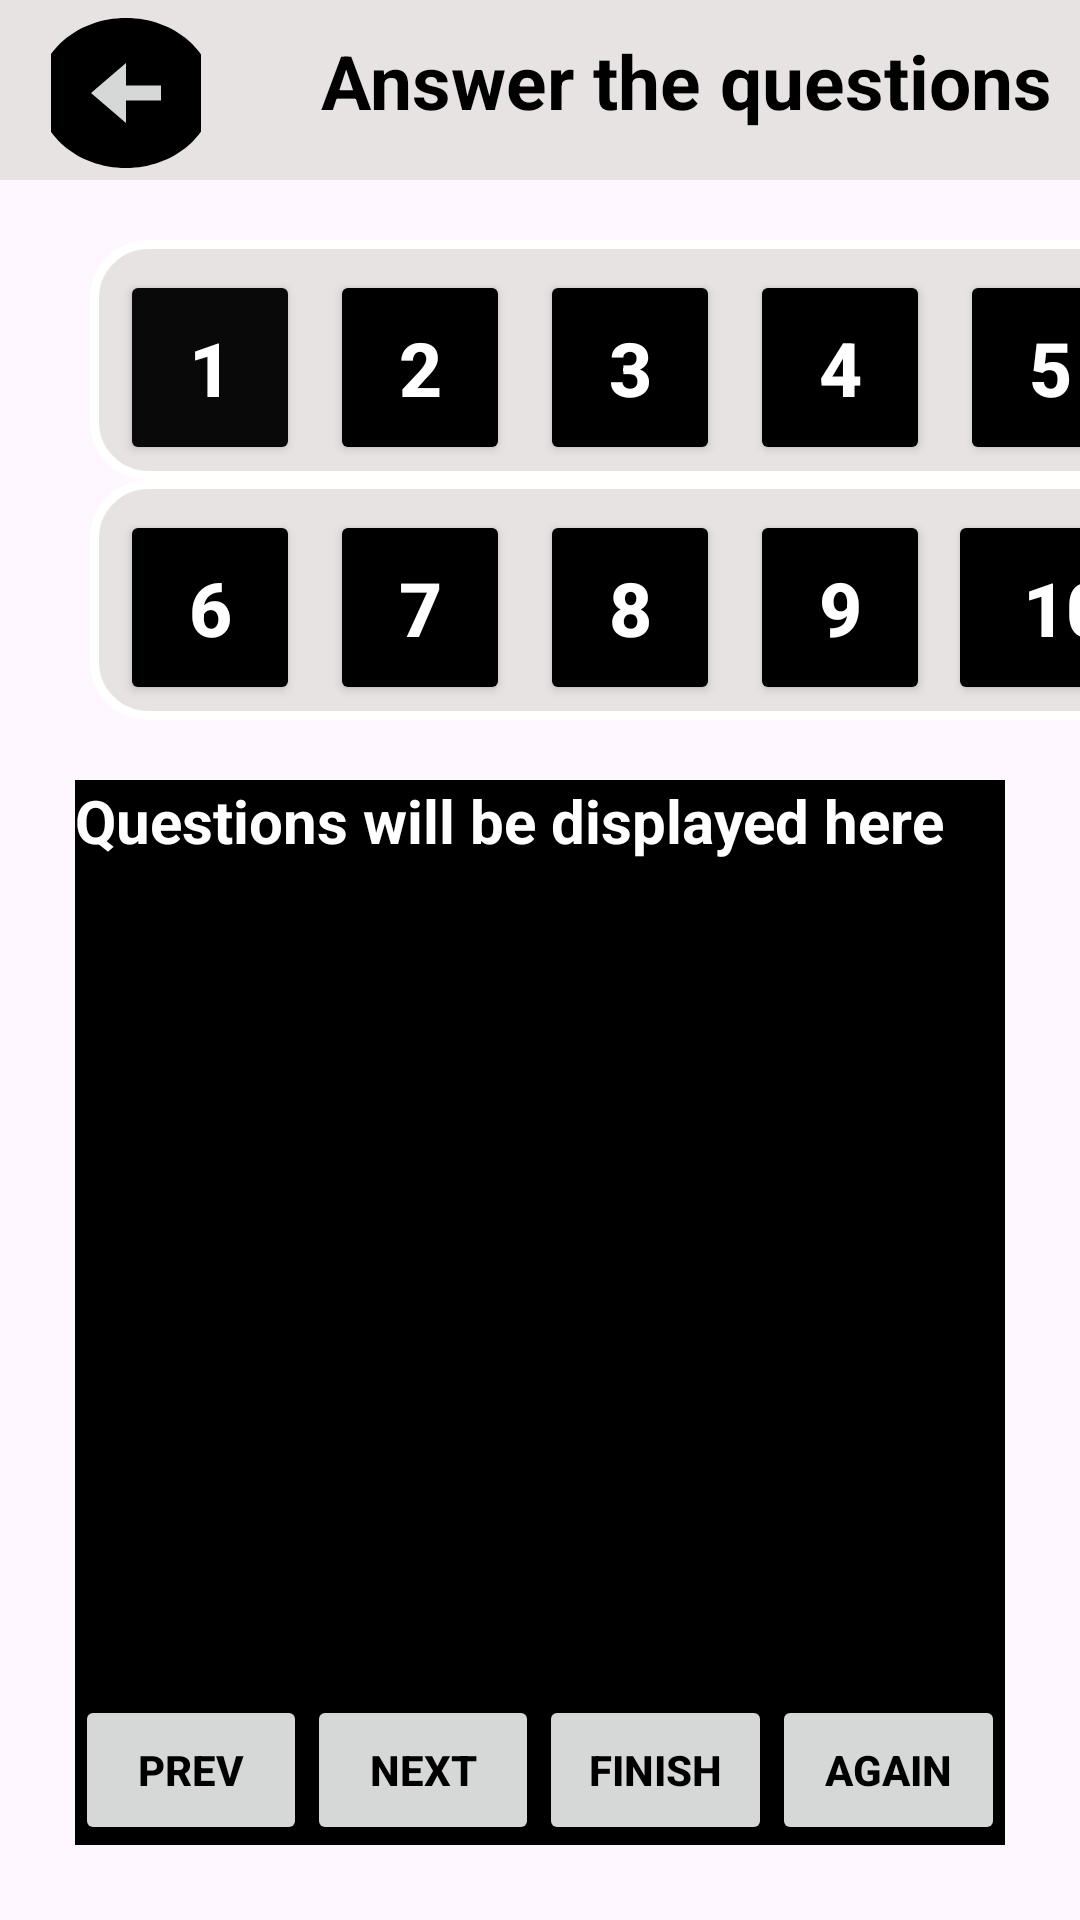

Where icons sit on this 1080×1920 app screen, as [left=x1, top=y1, right=x2, bottom=y2]:
arrow circle left: [left=51, top=18, right=201, bottom=168]
